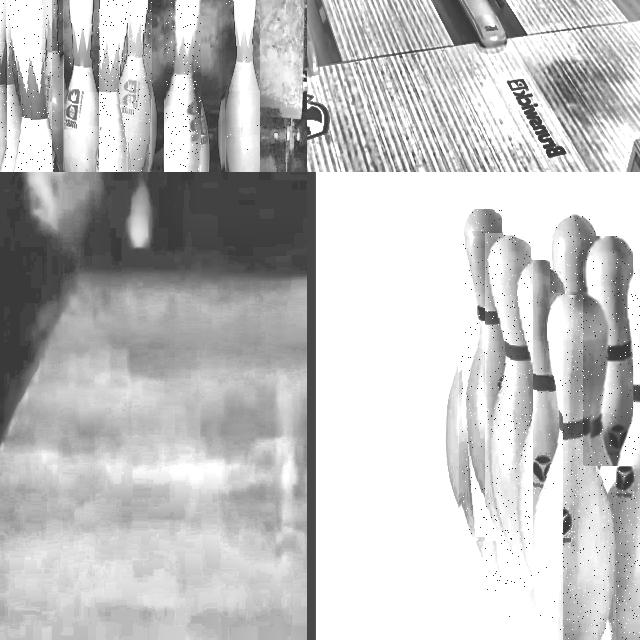bowling-pins: (522, 296, 615, 640), (499, 261, 561, 640), (485, 236, 530, 591), (461, 210, 501, 540), (607, 270, 640, 640), (584, 237, 632, 466), (5, 0, 51, 172), (89, 0, 127, 172), (224, 0, 259, 172), (166, 0, 201, 172), (61, 0, 96, 172), (125, 0, 151, 172), (37, 0, 60, 172), (550, 215, 596, 293)
